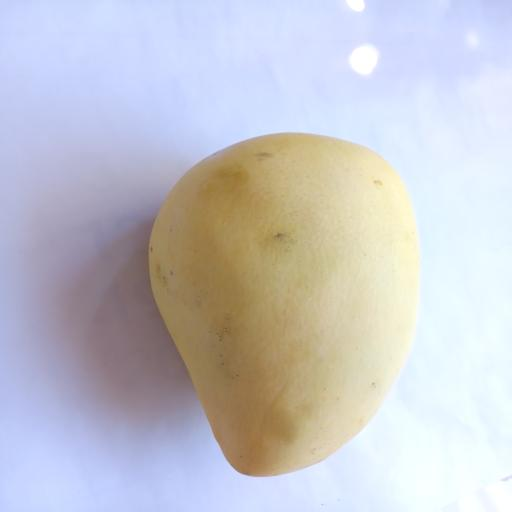mango-ripe: (133, 104, 450, 493)
